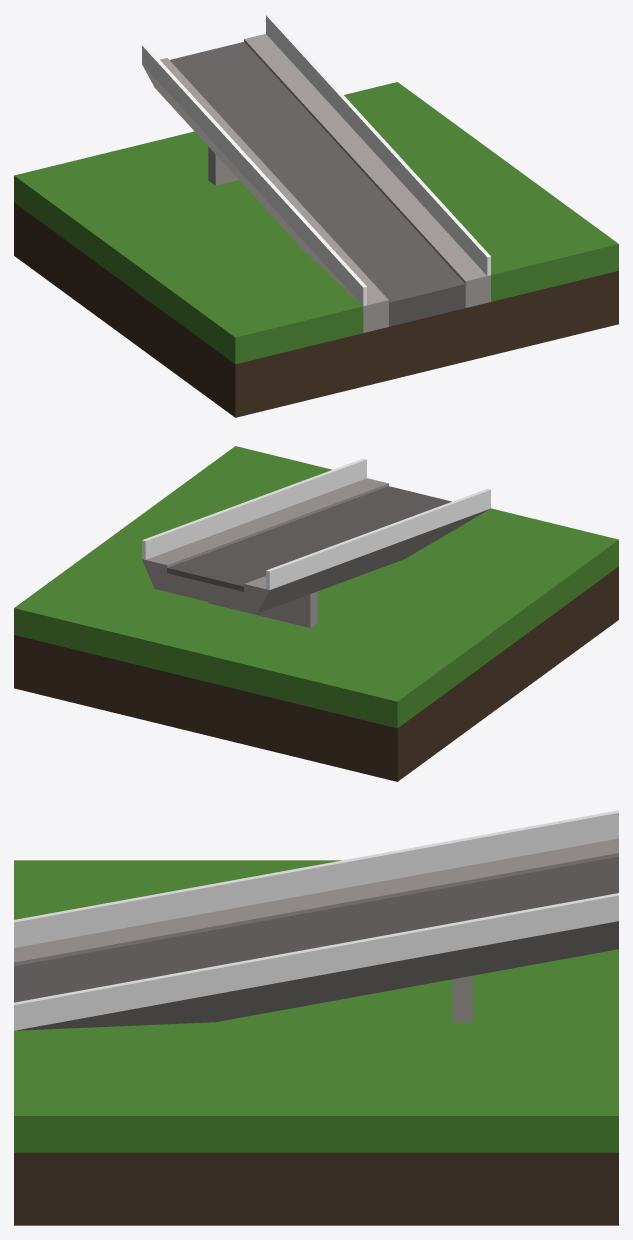
File: tiles-tile-bridge-road-hill.glb
3 views of the same model, one above another, from view 1: azimuth 30°, elevation 25°; view 2: azimuth 150°, elevation 25°; view 3: azimuth 270°, elevation 25° (orthographic). The views are drawn at different scales.
Parts seen in each view (by area): view 1: tile-bridge-road-hill; view 2: tile-bridge-road-hill; view 3: tile-bridge-road-hill.
Boxes of the visible parts, x1=… form: tile-bridge-road-hill: x1=14, y1=14, x2=618, y2=417; tile-bridge-road-hill: x1=14, y1=446, x2=618, y2=781; tile-bridge-road-hill: x1=14, y1=810, x2=618, y2=1225.
Size of the model in its own units: 30 by 13.4 by 30.
